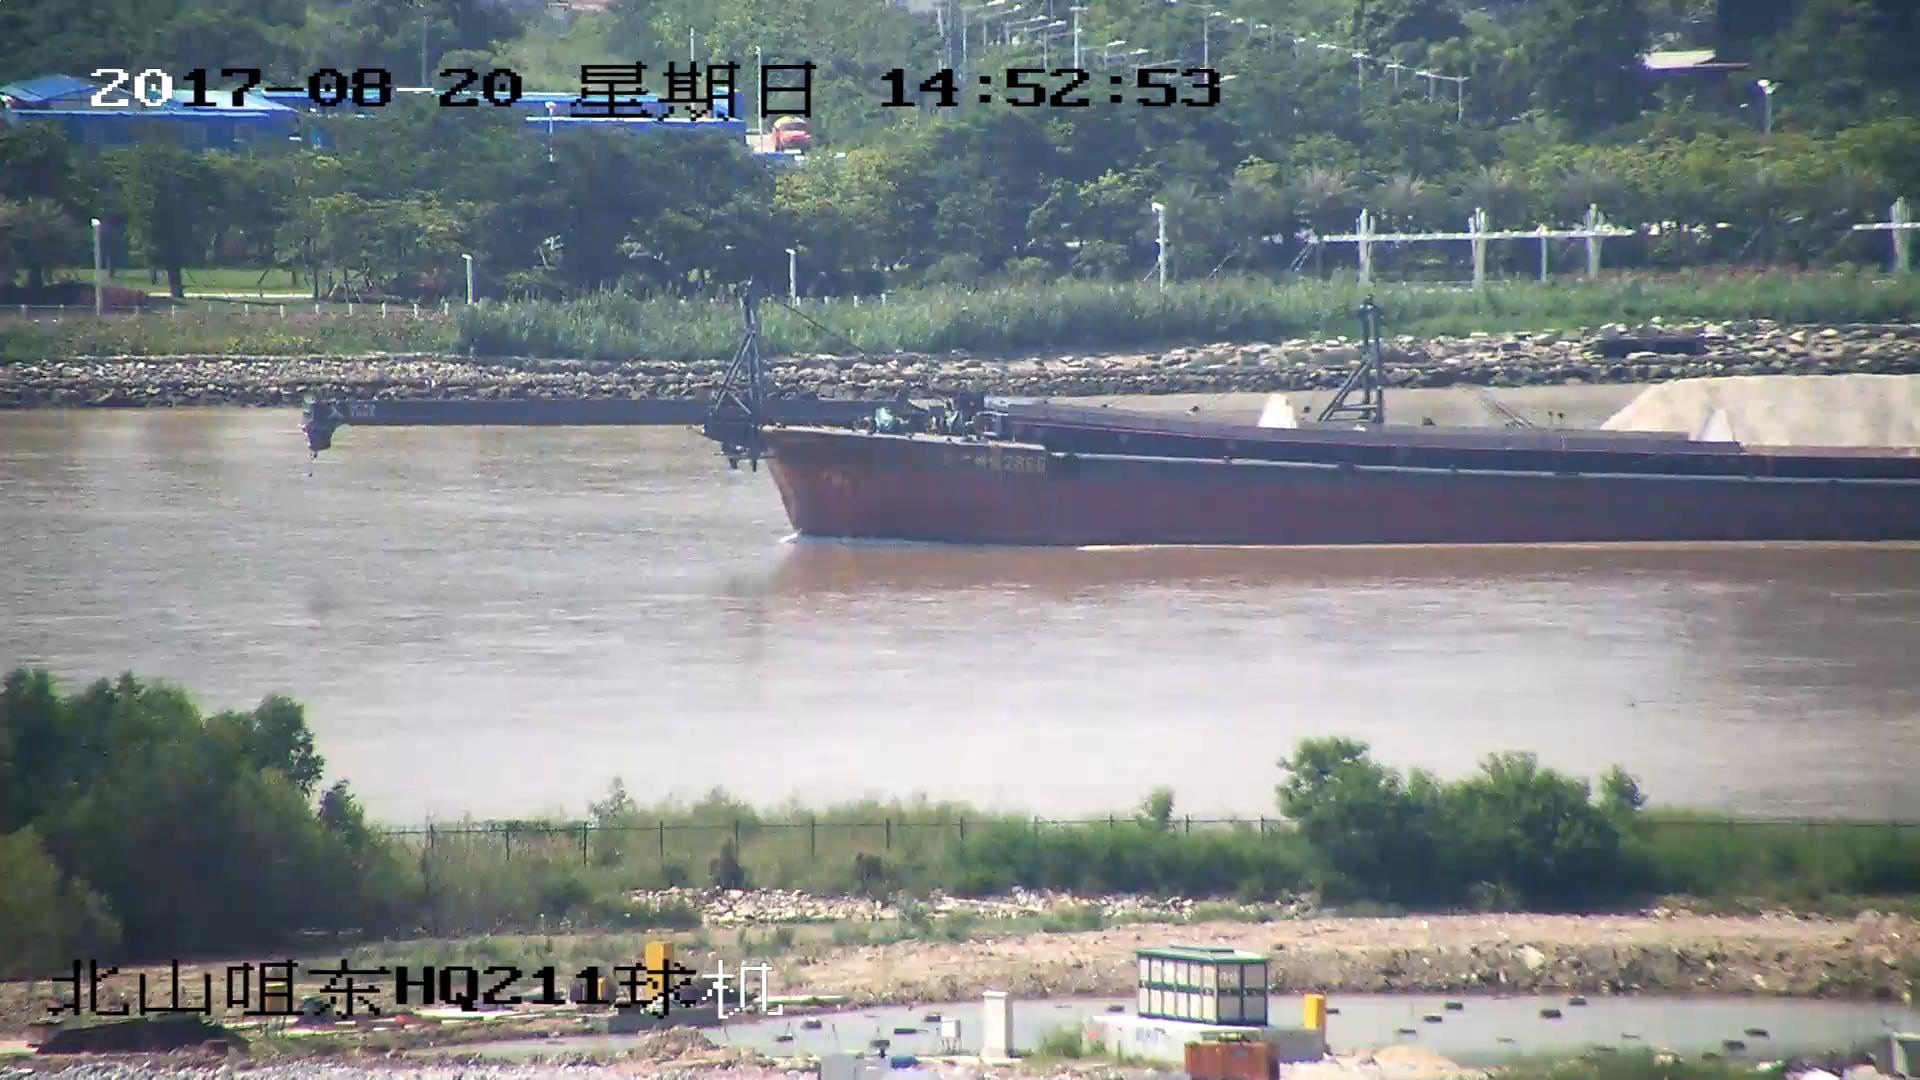Ship: (319, 291, 1920, 545), (1034, 306, 1920, 463)
